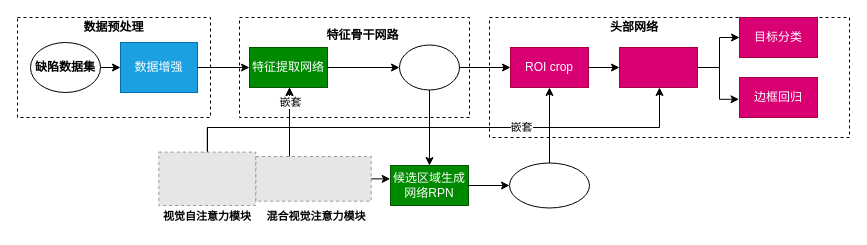
The diagram is 867 pixels wide and 245 high, and some of its shapes have lost their labels. Grey dashed boxes stand in for pictures. Here are the shapes that lost their labels. From the top down, the box of each, then its label:
(398, 44, 460, 90): 特征图
(618, 46, 698, 88): Head网络
(508, 162, 590, 208): 候选目标框Proposal
